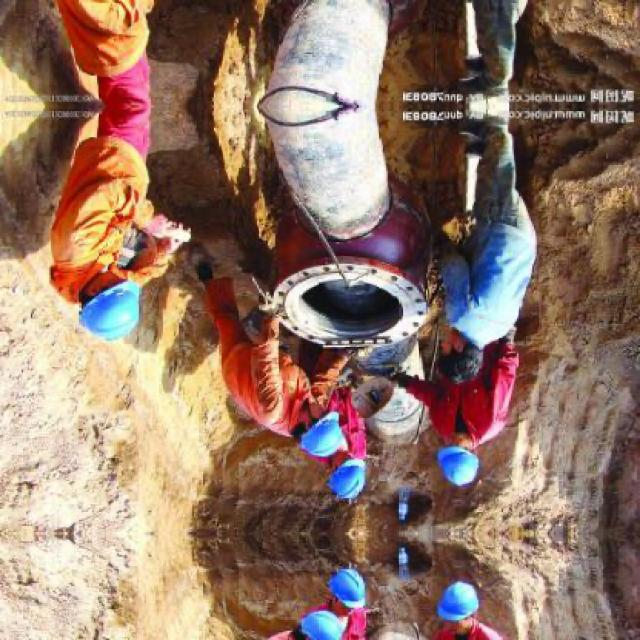con casco: (48, 205, 158, 348), (230, 362, 358, 454), (431, 446, 526, 516), (315, 451, 395, 512)
sin casco: (446, 314, 516, 398)
